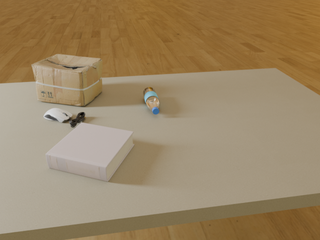book: (46, 123, 134, 182)
bottle: (143, 87, 160, 114)
box: (32, 54, 103, 106)
mouse: (44, 108, 72, 122)
